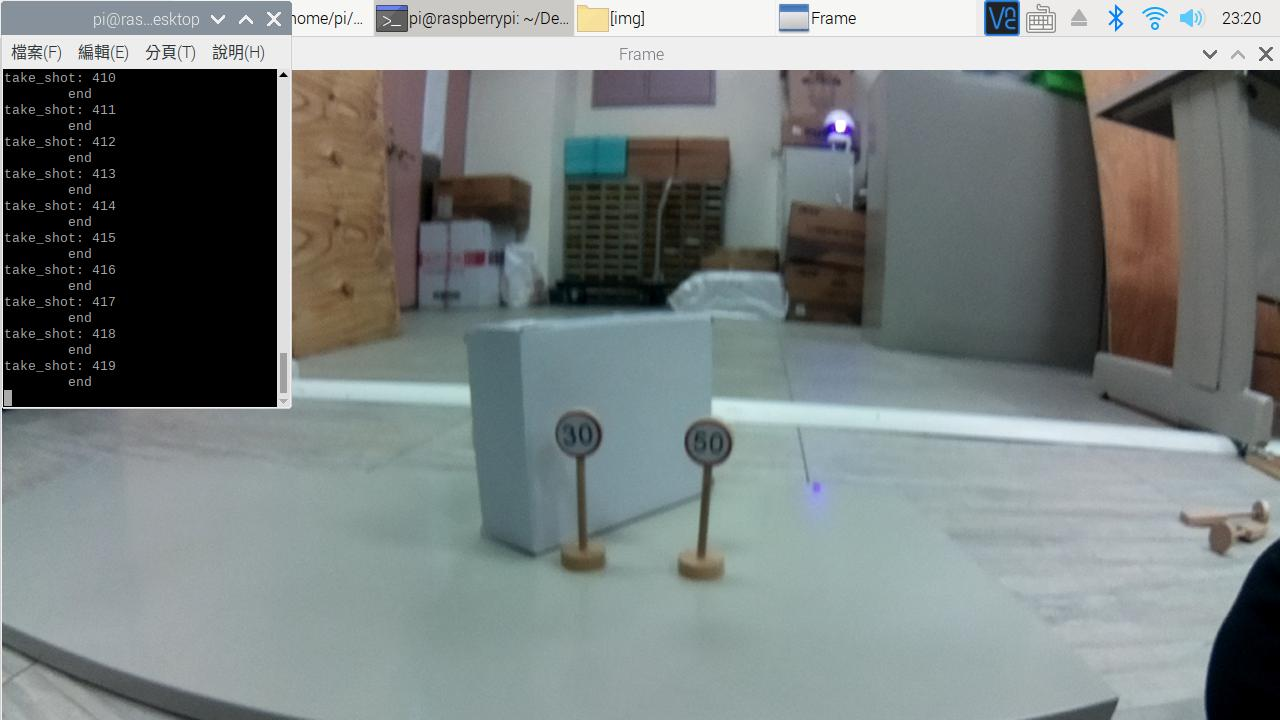Speed30: (542, 402, 609, 466)
Speed50: (679, 410, 747, 481)
